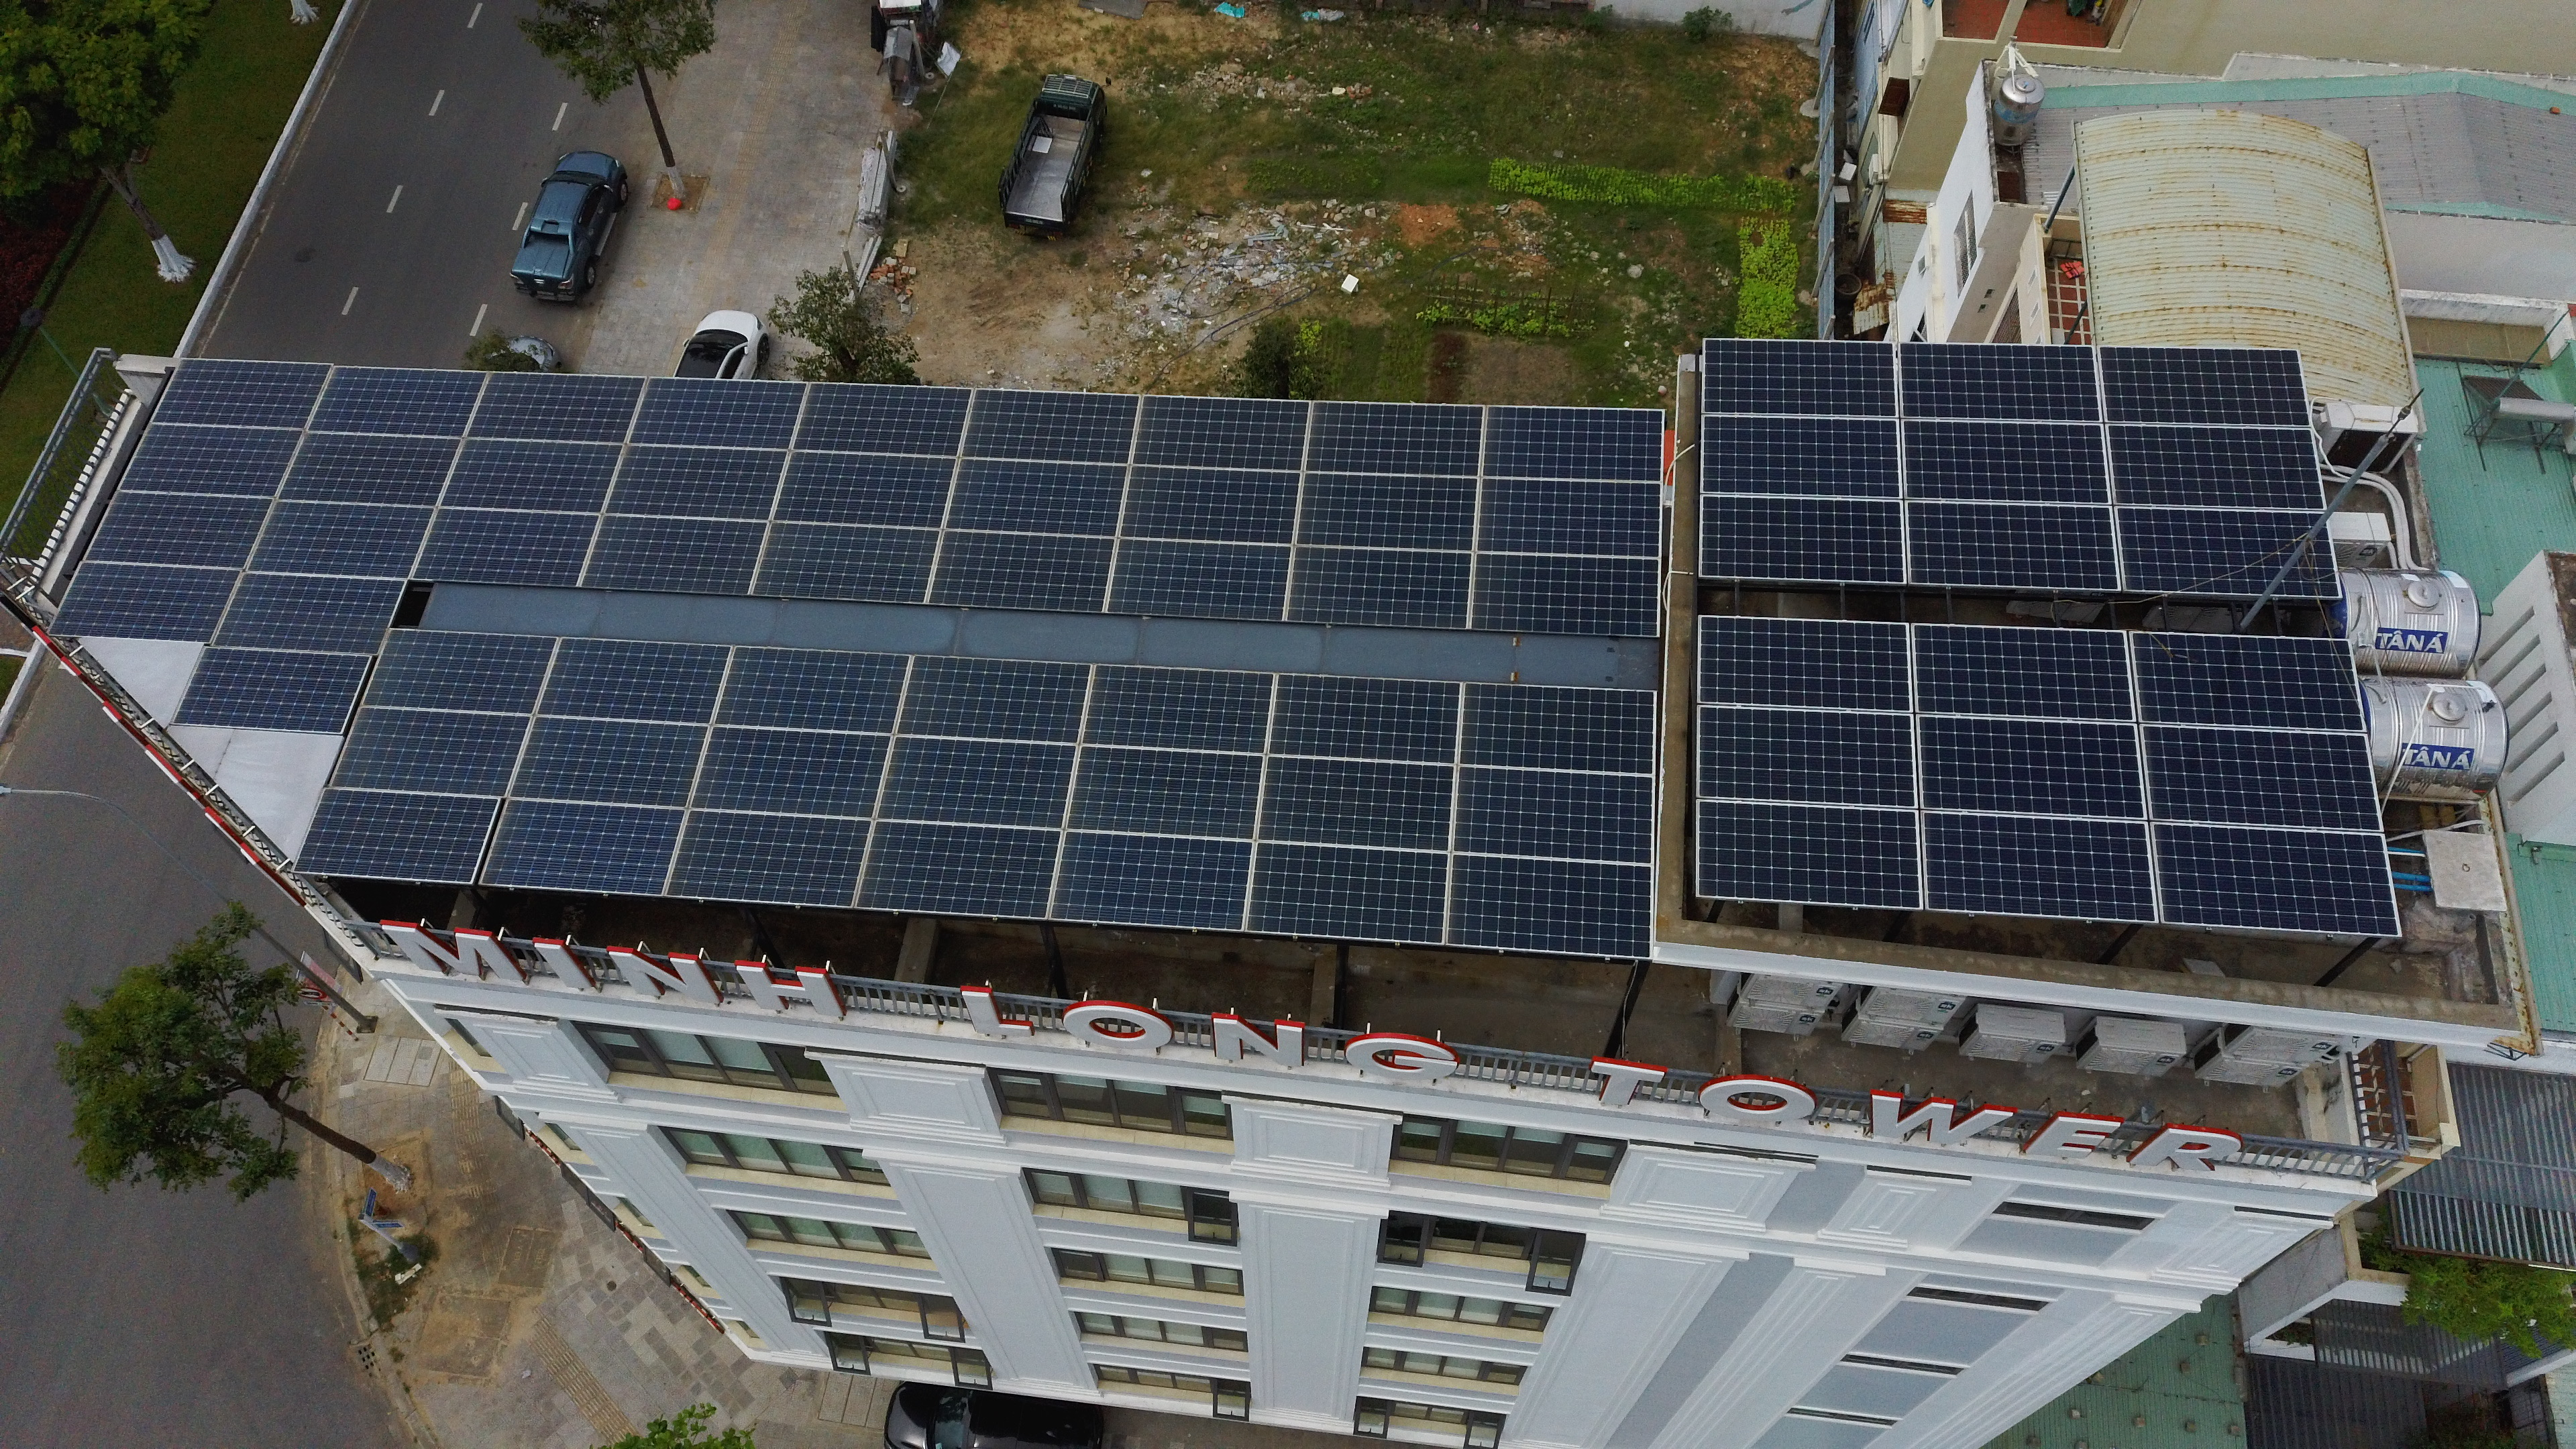solar: (2148, 817, 2403, 939), (1918, 810, 2160, 924), (2137, 725, 2387, 833), (1693, 796, 1927, 909), (1916, 713, 2151, 823), (2128, 628, 2367, 732), (1907, 621, 2139, 727), (1693, 702, 1921, 809), (1445, 847, 1656, 961), (658, 803, 878, 911), (849, 816, 1065, 924), (1242, 837, 1453, 947), (2112, 502, 2346, 600), (479, 794, 692, 899), (1047, 828, 1258, 932), (1695, 614, 1914, 713), (1900, 495, 2123, 593), (1453, 763, 1654, 869), (1253, 752, 1460, 855), (290, 786, 502, 885), (688, 722, 899, 821), (2102, 421, 2328, 513), (322, 702, 536, 800), (1897, 414, 2118, 508), (1062, 741, 1267, 842), (872, 732, 1081, 830), (504, 713, 717, 809), (1697, 492, 1909, 587), (1458, 678, 1658, 777), (168, 640, 373, 736), (1265, 671, 1465, 768), (1077, 662, 1279, 757), (892, 651, 1097, 745), (527, 635, 736, 727), (1695, 410, 1904, 502), (359, 626, 563, 718), (209, 568, 410, 658), (709, 648, 916, 734), (1283, 538, 1474, 632), (925, 524, 1120, 616), (1898, 340, 2104, 426), (1467, 547, 1663, 637), (2095, 347, 2316, 426), (46, 559, 246, 646), (242, 494, 439, 580), (403, 504, 603, 589), (1700, 338, 1904, 421), (1104, 536, 1297, 623), (78, 488, 278, 571), (747, 520, 947, 603), (1472, 474, 1663, 561), (272, 426, 467, 511), (575, 511, 773, 594), (1116, 458, 1306, 545), (939, 453, 1132, 538), (1479, 400, 1667, 487), (1292, 469, 1483, 554), (768, 448, 961, 531), (600, 441, 794, 522), (435, 435, 628, 517), (115, 419, 311, 499), (1304, 396, 1488, 479), (955, 386, 1143, 467), (1129, 393, 1313, 474), (301, 363, 490, 441), (623, 375, 810, 453), (793, 380, 977, 458), (147, 357, 334, 433), (464, 370, 651, 444)
